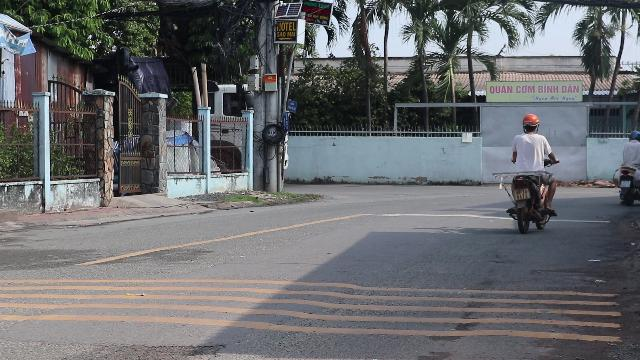helmet: (520, 113, 540, 133)
licenseplate: (514, 187, 530, 200)
motorcyclist: (502, 112, 558, 232)
